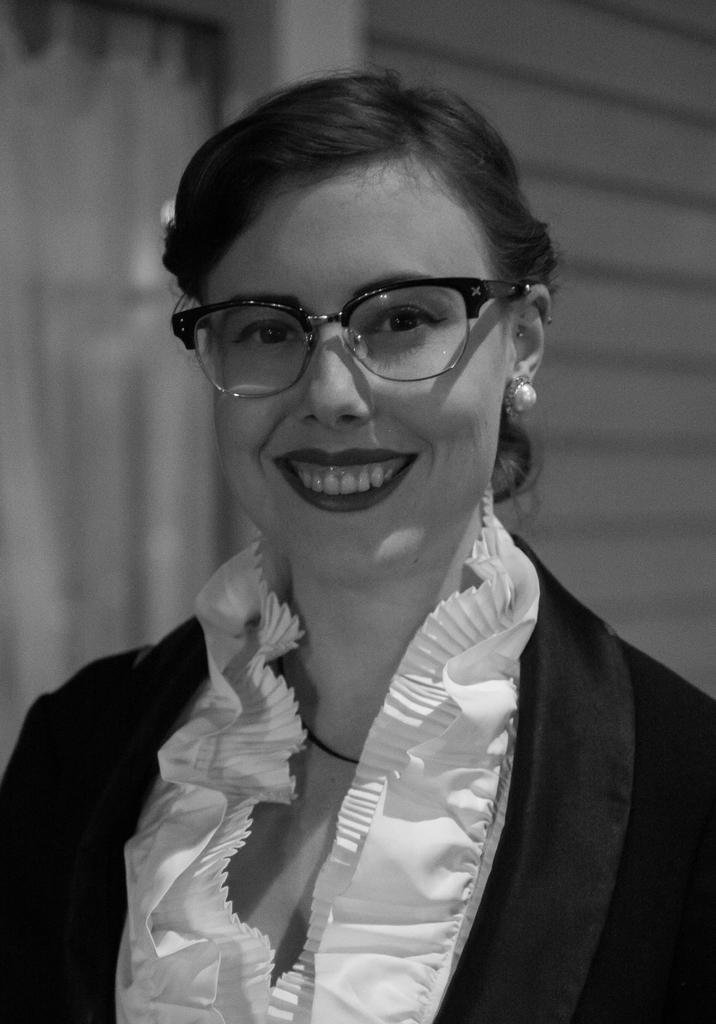Sem Máscara: (213, 159, 495, 590)
